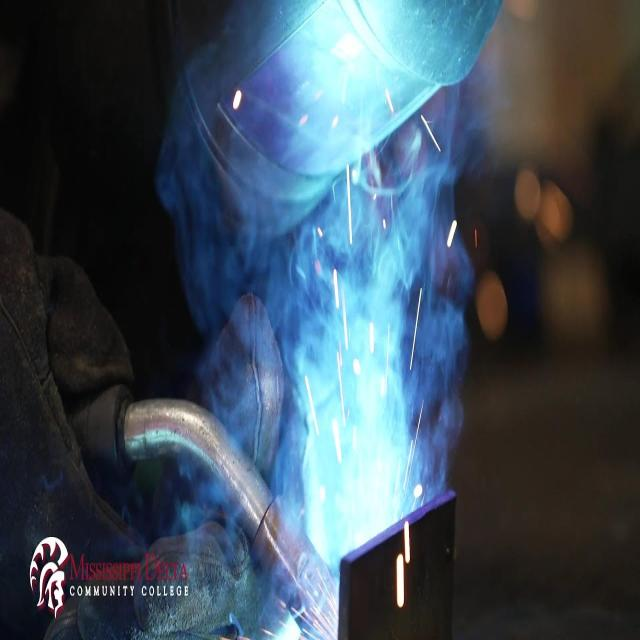welding: (313, 444, 401, 532), (275, 613, 303, 640)
